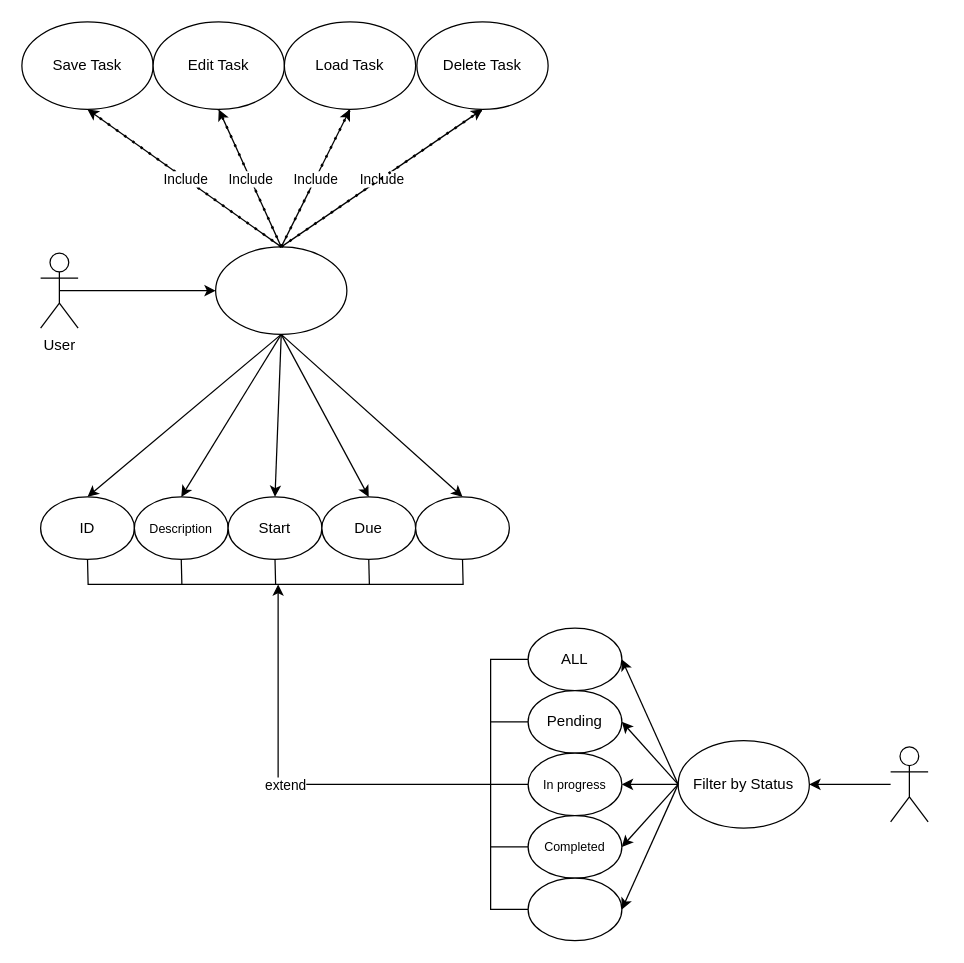
The diagram is 964 pixels wide and 963 high, and some of its shapes have lost their labels. The shapes that lost their labels are listed below. From the top down, each one's centre as x and y in pixels, then its label:
point (280, 290): Task Manager
point (461, 527): Status
point (908, 784): CopyUser
point (574, 909): Canceled
